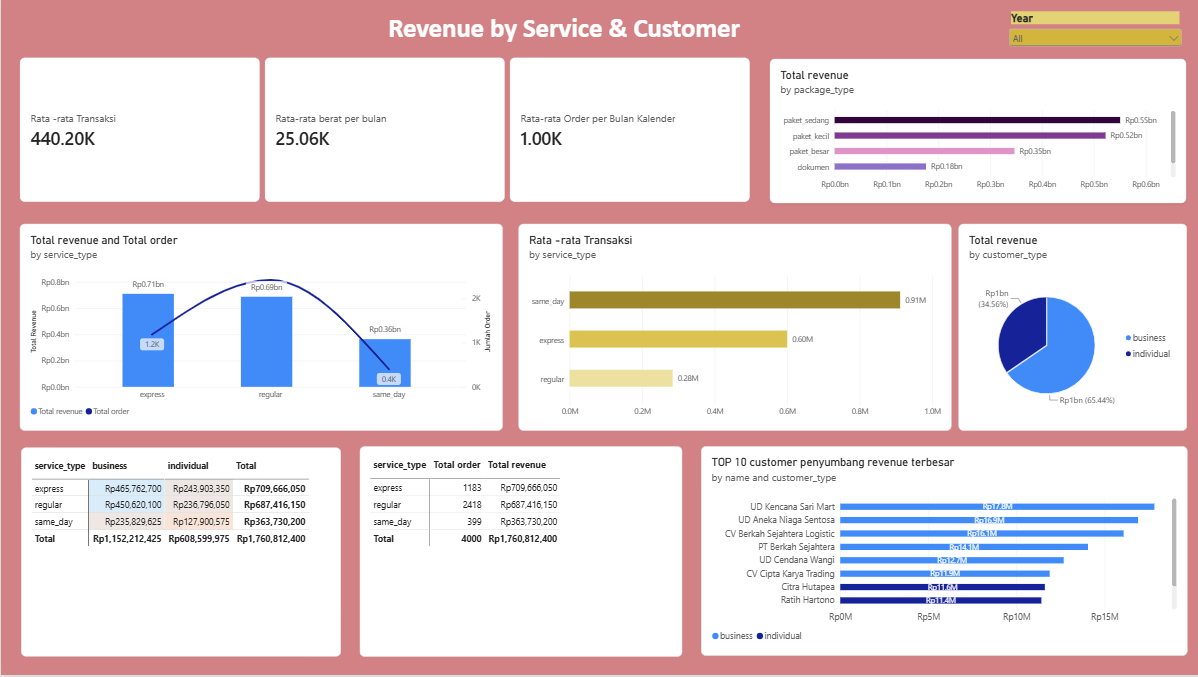

Layout of this report page (visuals, bound fields, positions):
{"tool":"powerbi","page":{"name":"Revenue by Service & Customer","canvas":[1920,1080],"ordinal":1},"visuals":[{"type":"textbox","box":[10,0,280,280],"z":0},{"type":"textbox","box":[609.9,18.1,933.8,74.2],"z":1000},{"type":"cardVisual","fields":{"Data":["measure.Rata -rata Transaksi","measure.Rata-rata berat per bulan","measure.Rata-rata Order per Bulan Kalender"]},"box":[30.8,92.3,1170.9,231.6],"z":2000},{"type":"lineClusteredColumnComboChart","fields":{"Category":["shipments.service_type"],"Y":["measure.Total revenue"],"Y2":["measure.Total order"]},"box":[30.8,358.3,772.7,331.2],"z":3000},{"type":"barChart","fields":{"Category":["shipments.service_type"],"Y":["measure.Rata -rata Transaksi"]},"box":[827,358.3,693.1,331.2],"z":4000},{"type":"pieChart","fields":{"Category":["customers (2).customer_type"],"Y":["measure.Total revenue"]},"box":[1532.8,358.3,365.6,331.2],"z":5000},{"type":"pivotTable","fields":{"Rows":["shipments.service_type"],"Values":["measure.Total order","measure.Total revenue"]},"box":[573.7,713,515.8,336.6],"z":6000},{"type":"barChart","fields":{"Category":["customers (2).name"],"Series":["customers (2).customer_type"],"Y":["measure.Total revenue"]},"box":[1119.2,713.2,778.4,335.2],"z":7000},{"type":"barChart","fields":{"Category":["shipments.package_type"],"Y":["measure.Total revenue"]},"box":[1229.1,93.1,666.7,230.9],"z":8000},{"type":"pivotTable","fields":{"Columns":["customers (2).customer_type"],"Rows":["shipments.service_type"],"Values":["measure.Total revenue"]},"box":[31.7,715.1,512.1,334.8],"z":9000},{"type":"slicer","fields":{"Values":["shipments.pickup_date.Variation.Date Hierarchy.Year"]},"box":[1608.8,18.1,285.9,95.9],"z":10000}]}

Visuals, with their boxes in screenshot pixels (x1, y1, x2, y2), scaled from the page's 1920x1080 canvas onto the 1198x677 screenshot:
textbox: (6,0,181,176)
textbox: (381,11,963,58)
cardVisual - measure.Rata -rata Transaksi x measure.Rata-rata berat per bulan: (19,58,750,203)
lineClusteredColumnComboChart - shipments.service_type x measure.Total revenue: (19,225,501,432)
barChart - shipments.service_type x measure.Rata -rata Transaksi: (516,225,948,432)
pieChart - customers (2).customer_type x measure.Total revenue: (956,225,1185,432)
pivotTable - shipments.service_type x measure.Total order: (358,447,680,658)
barChart - customers (2).name x customers (2).customer_type: (698,447,1184,657)
barChart - shipments.package_type x measure.Total revenue: (767,58,1183,203)
pivotTable - customers (2).customer_type x shipments.service_type: (20,448,339,658)
slicer - shipments.pickup_date.Variation.Date Hierarchy.Year: (1004,11,1182,71)
